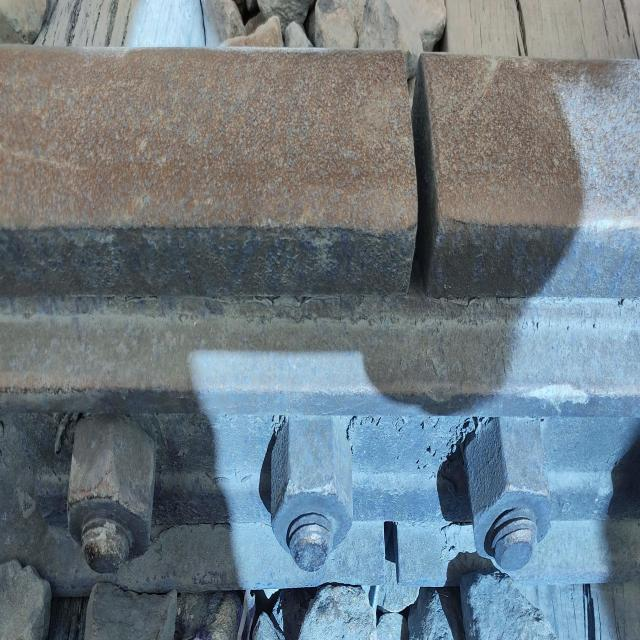Good Joint: (2, 300, 640, 603)
